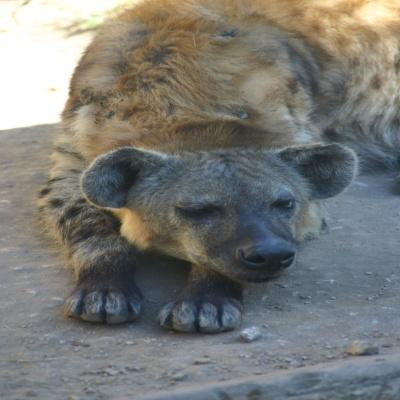hyenas: (2, 7, 400, 400)
